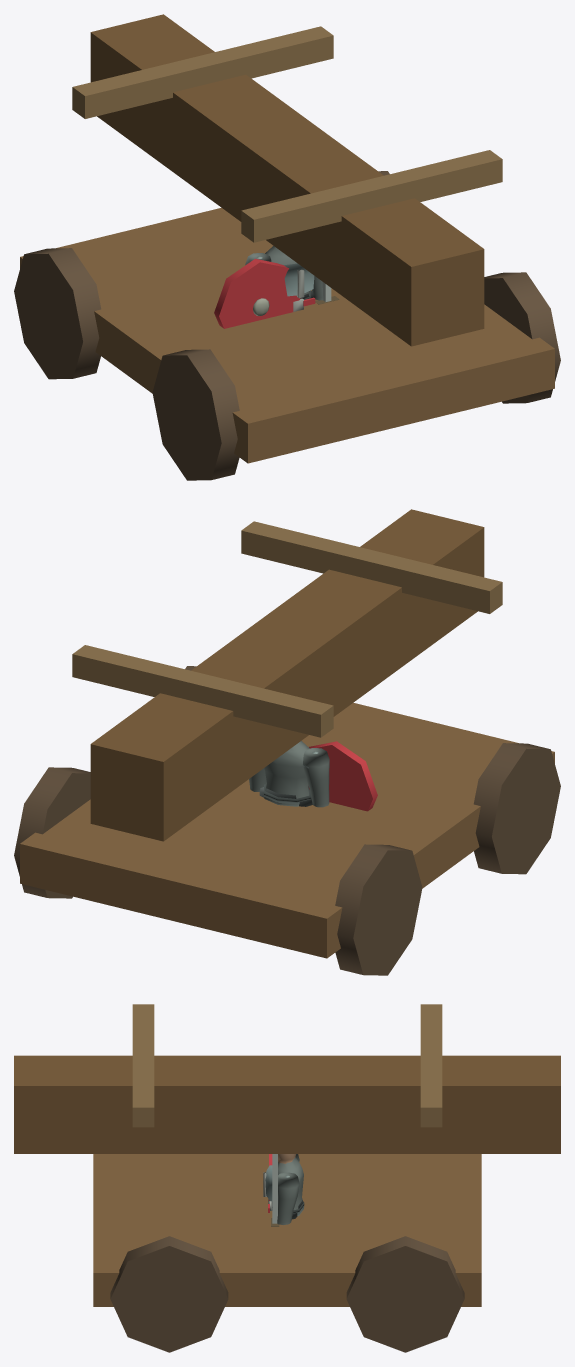
File: battering_ram_team1.glb
The picture shows the model from 3 angles, top to bottom: view 1: azimuth 30°, elevation 25°; view 2: azimuth 150°, elevation 25°; view 3: azimuth 270°, elevation 25°; orthographic projection. The views are drawn at different scales.
Parts seen in each view (by area): view 1: part_11, part_16, part_13, part_12, part_18, part_17, part_15, part_3, part_0; view 2: part_11, part_16, part_12, part_13, part_17, part_18, part_14, part_3, part_0, part_2; view 3: part_16, part_11, part_14, part_15, part_17, part_18, part_5, part_0.
Part boxes in pixels (left/top/right/bottom): part_11: left=20, top=208, right=554, bottom=463; part_16: left=90, top=14, right=484, bottom=346; part_13: left=152, top=349, right=239, bottom=480; part_12: left=14, top=248, right=101, bottom=379; part_18: left=241, top=150, right=502, bottom=242; part_17: left=72, top=26, right=333, bottom=118; part_15: left=484, top=272, right=560, bottom=403; part_3: left=214, top=258, right=300, bottom=328; part_0: left=265, top=246, right=314, bottom=311; part_11: left=20, top=703, right=554, bottom=958; part_16: left=90, top=509, right=484, bottom=841; part_12: left=335, top=844, right=422, bottom=975; part_13: left=473, top=743, right=560, bottom=874; part_17: left=72, top=645, right=333, bottom=737; part_18: left=241, top=521, right=502, bottom=613; part_14: left=14, top=767, right=90, bottom=898; part_3: left=309, top=741, right=377, bottom=811; part_0: left=263, top=741, right=310, bottom=806; part_2: left=303, top=748, right=329, bottom=807; part_16: left=14, top=1055, right=560, bottom=1153; part_11: left=93, top=1154, right=481, bottom=1306; part_14: left=346, top=1236, right=464, bottom=1352; part_15: left=110, top=1236, right=228, bottom=1352; part_17: left=420, top=1004, right=442, bottom=1127; part_18: left=132, top=1004, right=154, bottom=1127; part_5: left=277, top=1172, right=299, bottom=1224; part_0: left=263, top=1157, right=304, bottom=1215.
Size of the model in its own units: 2.32 by 1.74 by 3.8.
